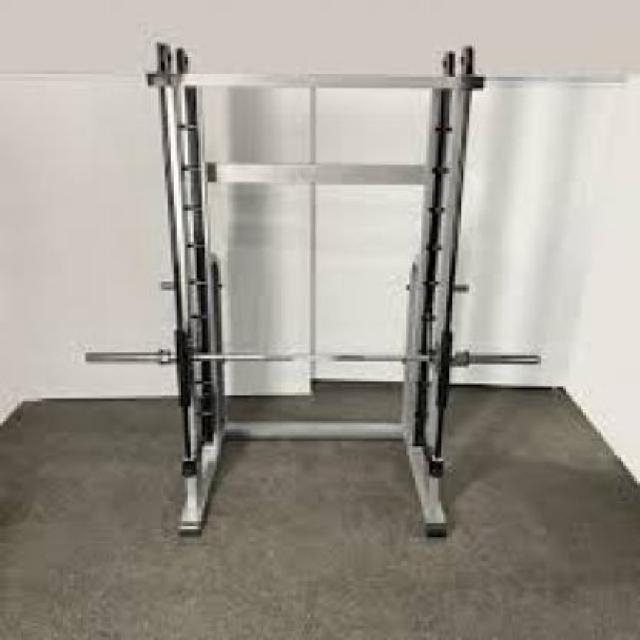smith machine: (86, 40, 542, 542)
